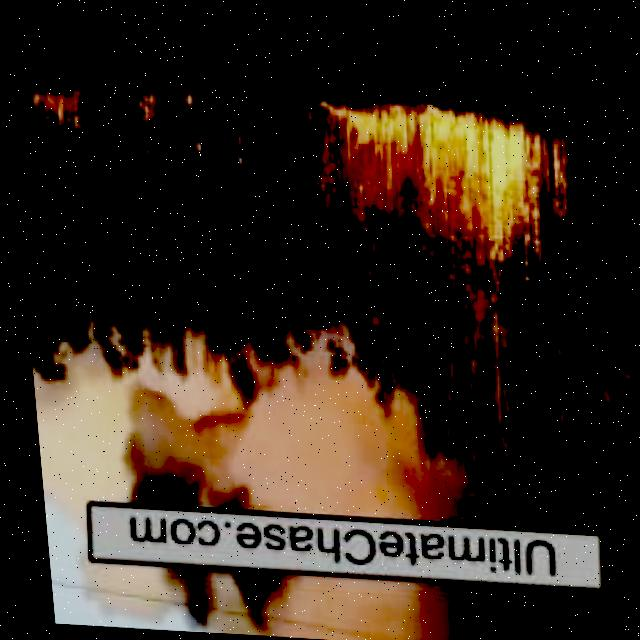Fire: (326, 106, 541, 236), (133, 91, 200, 126), (29, 93, 82, 128)
Smoke: (18, 256, 640, 533), (63, 562, 640, 640)
